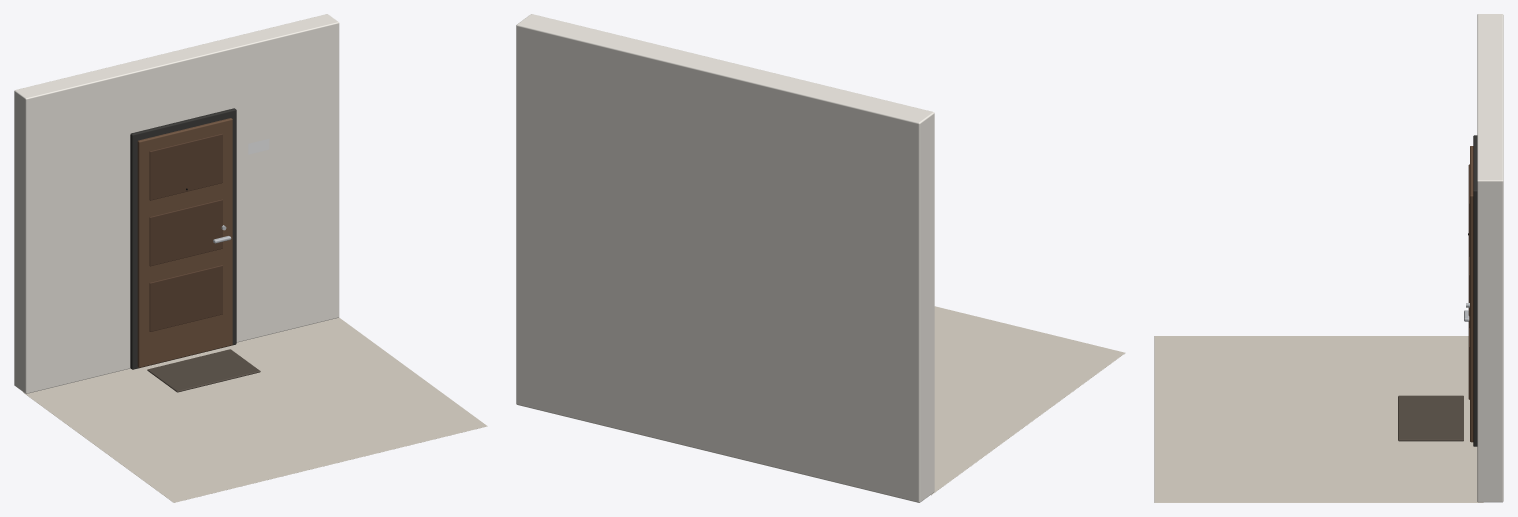
File: frontDoor.glb
3 views of the same model, side by side, from view 1: azimuth 30°, elevation 25°; view 2: azimuth 150°, elevation 25°; view 3: azimuth 270°, elevation 25° (orthographic). The views are drawn at different scales.
Visible parts, largest first — view 1: wall, floor, leaf, door, frame, mat; view 2: wall, floor; view 3: floor, wall, mat, frame, leaf, door.
Part boxes in pixels (box(x1,y1,x2,y2)): wall: box(14, 14, 339, 393); floor: box(23, 317, 487, 502); leaf: box(137, 118, 232, 367); door: box(149, 133, 222, 331); frame: box(130, 108, 236, 369); mat: box(147, 349, 260, 392); wall: box(516, 14, 934, 502); floor: box(931, 306, 1125, 495); floor: box(1154, 336, 1483, 502); wall: box(1477, 14, 1503, 502); mat: box(1398, 395, 1463, 441); frame: box(1473, 135, 1477, 446); leaf: box(1470, 146, 1473, 442); door: box(1468, 164, 1469, 399).
Bounding box in the file's own units: 3 × 2.7 × 2.65.
